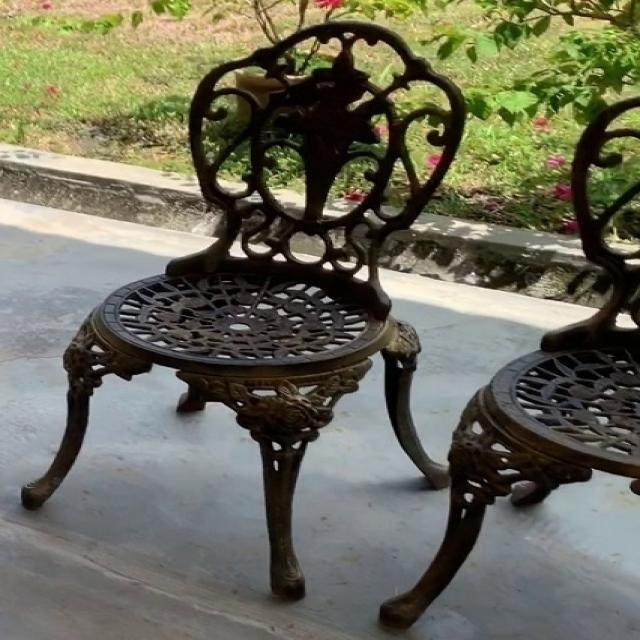chair: (19, 17, 472, 605), (378, 95, 640, 629)
